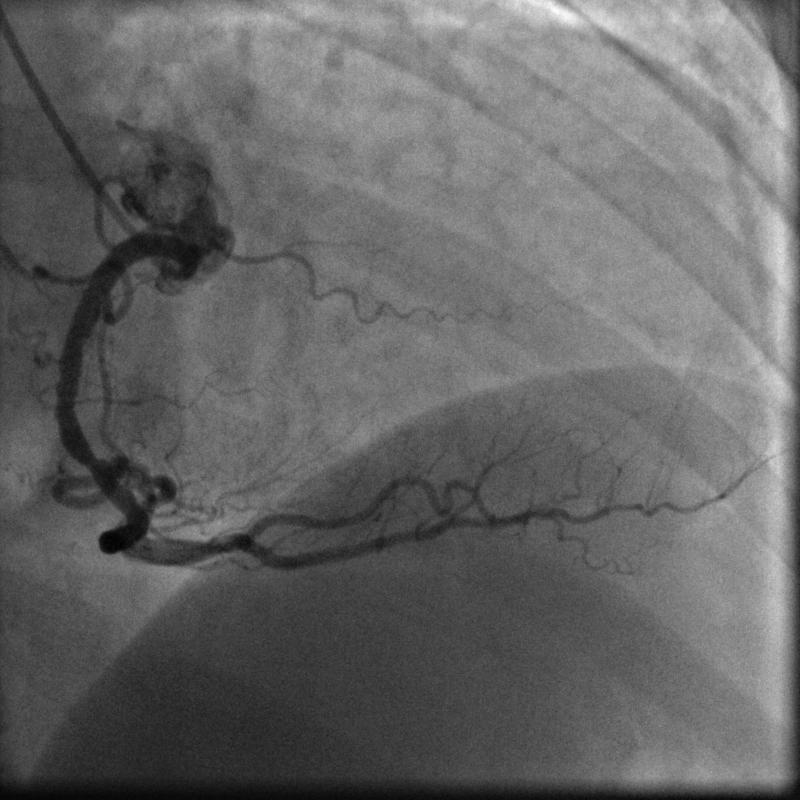Stenosis: (66, 453, 134, 483)
